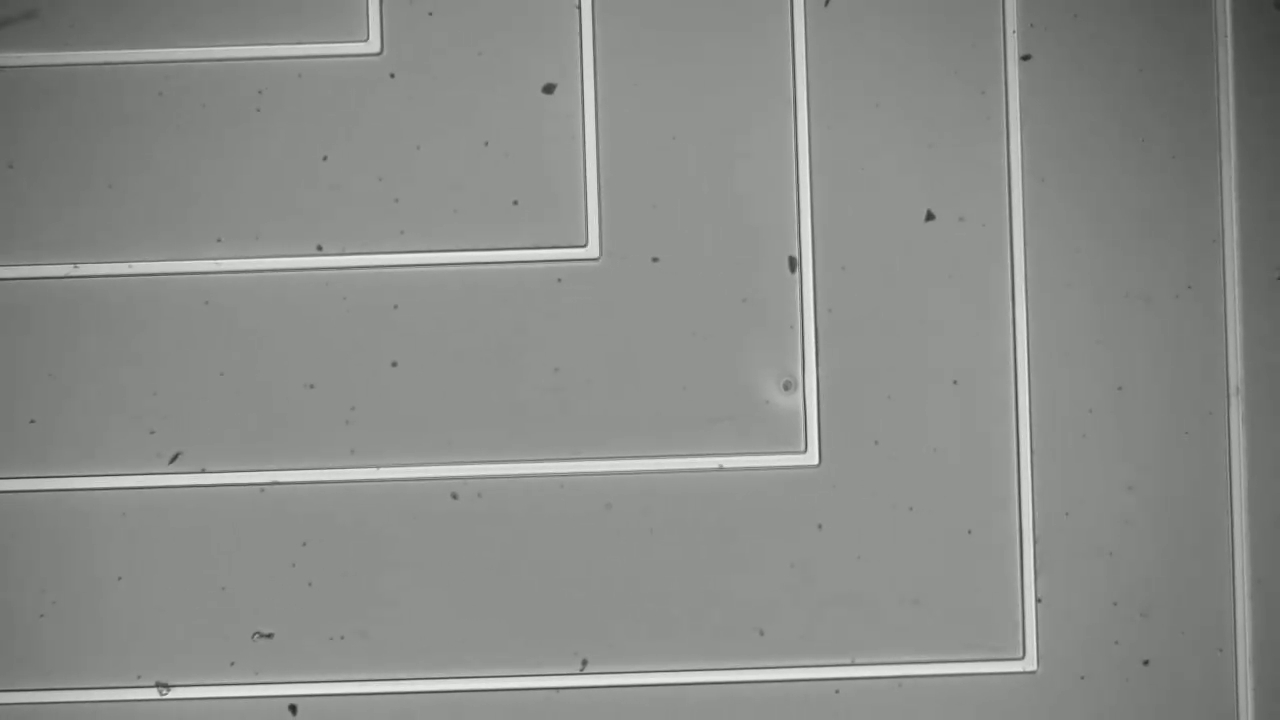stains_enbedded: (143, 671, 177, 701)
